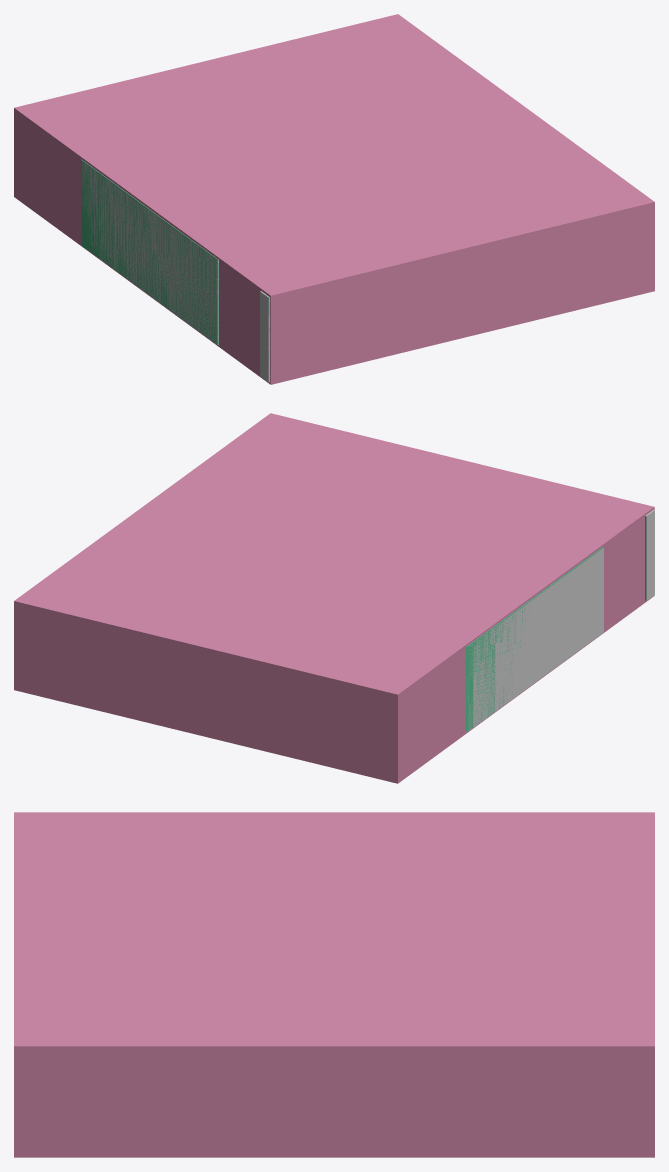
Rendered from port_base_01_a.dae.
3 views of the same model, one above another, from view 1: azimuth 30°, elevation 25°; view 2: azimuth 150°, elevation 25°; view 3: azimuth 270°, elevation 25° (orthographic). The views are drawn at different scales.
Parts seen in each view (by area): view 1: Untitled, tree_oak_bush_a10, Colmesh-1; view 2: Untitled, tree_oak_bush_a10, Colmesh-1; view 3: Untitled.
Boxes of the visible parts, x1,y1,x2,y2 form: Untitled: (14,14,654,384); tree_oak_bush_a10: (81,160,269,382); Colmesh-1: (81,159,269,380); Untitled: (14,413,654,783); tree_oak_bush_a10: (466,509,654,731); Colmesh-1: (465,516,646,731); Untitled: (14,812,654,1157).
Size of the model in its own units: 183 by 212 by 41.81.
